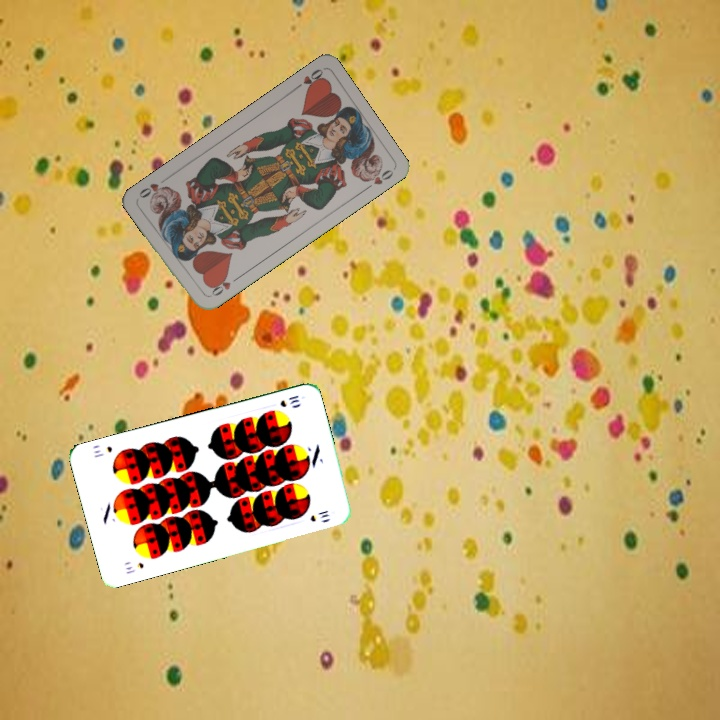HO: (203, 272, 240, 300), (290, 65, 326, 93)
S10: (276, 391, 302, 410), (122, 558, 146, 576)
